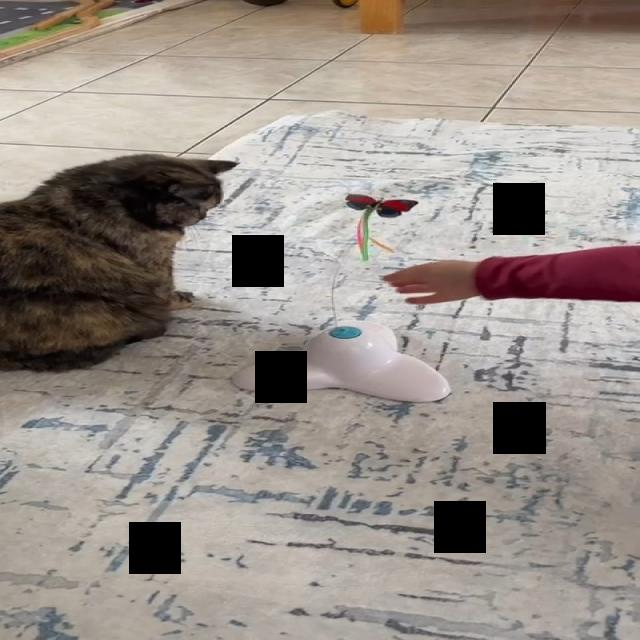authorized: (0, 152, 240, 373)
